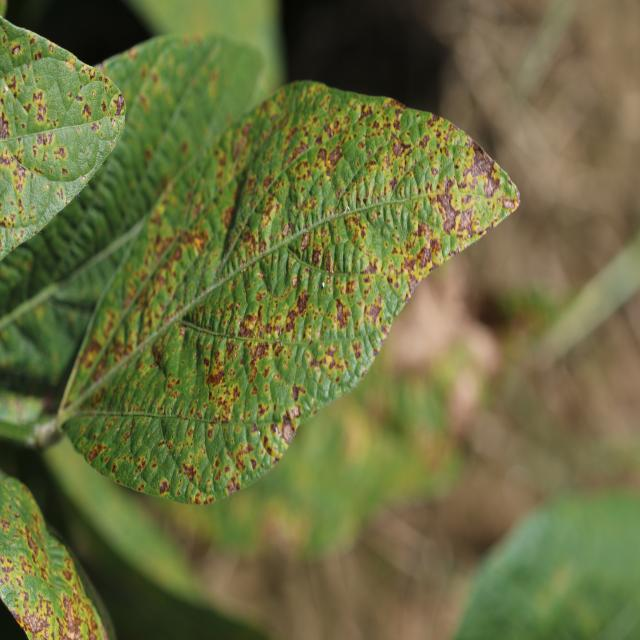Bacterial_Blight: (157, 317, 194, 386), (465, 146, 496, 191), (319, 340, 352, 375), (20, 602, 52, 637), (341, 138, 368, 178), (59, 593, 82, 639), (332, 297, 359, 334), (380, 281, 402, 322), (440, 194, 459, 234), (333, 239, 354, 274), (206, 359, 227, 389), (413, 158, 433, 187), (39, 392, 61, 416), (439, 154, 456, 183), (94, 138, 111, 166), (13, 164, 28, 193), (321, 248, 336, 275), (417, 198, 432, 225), (417, 245, 433, 270), (400, 110, 417, 133), (366, 301, 382, 325), (406, 271, 421, 296), (326, 144, 342, 167), (25, 529, 39, 555), (252, 341, 269, 362), (152, 340, 165, 367), (509, 178, 521, 207), (281, 419, 294, 445), (294, 291, 308, 315), (0, 554, 15, 576), (362, 257, 379, 275), (113, 92, 125, 116), (7, 74, 19, 97), (0, 113, 10, 140), (392, 139, 406, 158), (311, 247, 323, 266), (292, 384, 305, 401), (183, 464, 195, 482), (53, 145, 67, 160), (36, 104, 47, 123), (64, 54, 76, 71), (81, 103, 92, 121), (158, 480, 170, 494), (226, 480, 237, 495), (430, 113, 443, 125), (282, 222, 292, 237), (33, 90, 44, 103), (44, 132, 54, 146), (11, 44, 21, 56), (250, 423, 260, 435), (56, 187, 64, 202), (94, 62, 104, 74), (477, 227, 486, 238), (34, 50, 42, 61), (36, 133, 43, 145), (358, 110, 365, 120), (343, 203, 350, 213), (43, 182, 50, 191), (139, 480, 146, 489), (62, 167, 68, 175), (76, 126, 81, 135), (82, 175, 87, 182), (321, 281, 325, 288)
Soybean: (69, 83, 519, 504)
